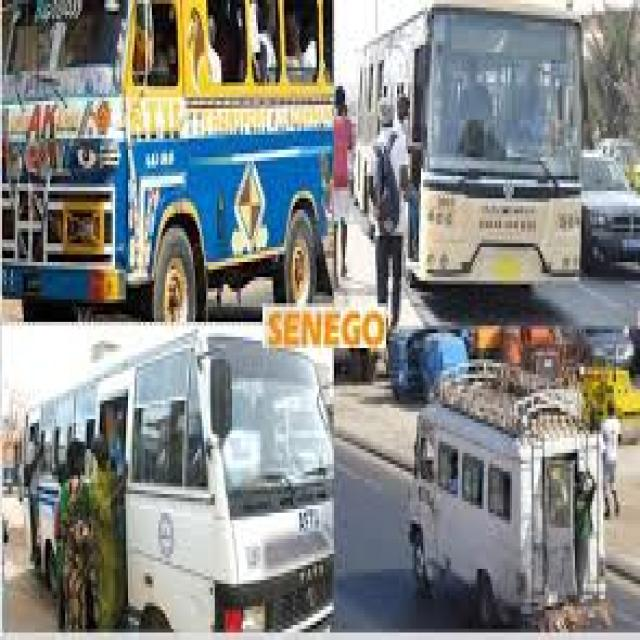bus dem dikk: (355, 5, 581, 286)
bus tata: (32, 333, 335, 631)
car rapide: (2, 1, 335, 320)
ndiaga ndiaye: (411, 365, 606, 629)
